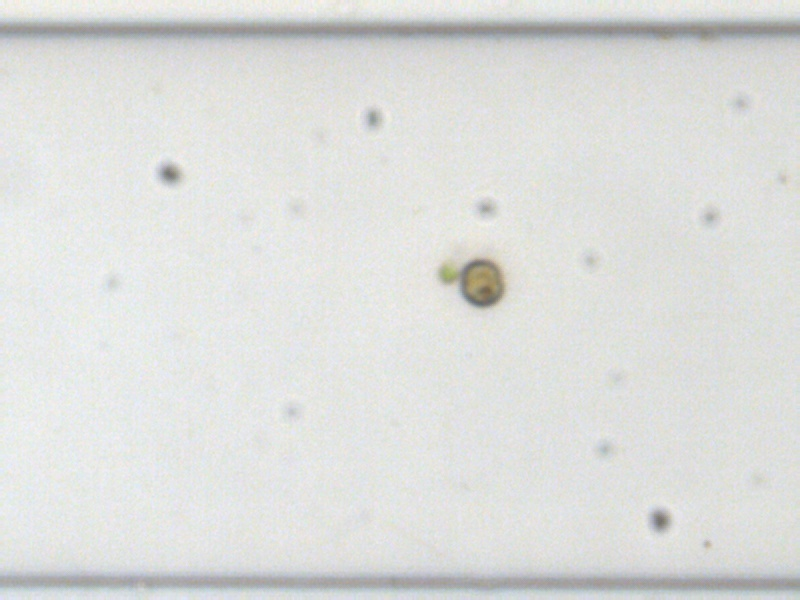Chlorella: (438, 259, 457, 283)
Effrenium: (457, 255, 505, 307)
